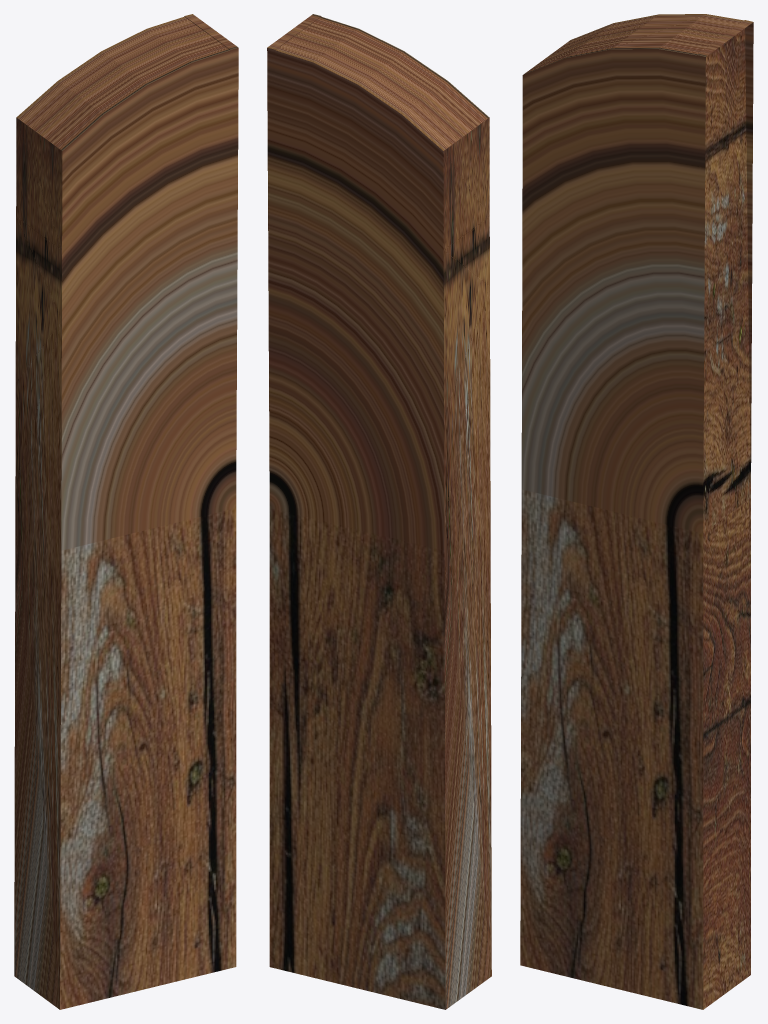
The model's file is PuertaCorrediza.obj.
3 renders of one model, left to right at view 1: azimuth 30°, elevation 25°; view 2: azimuth 150°, elevation 25°; view 3: azimuth 330°, elevation 25°, orthographic. The views are drawn at different scales.
Visible parts, largest first — view 1: Cube_Material; view 2: Cube_Material; view 3: Cube_Material.
Boxes of the visible parts, x1=… form: Cube_Material: x1=14, y1=14, x2=238, y2=1009; Cube_Material: x1=267, y1=14, x2=491, y2=1009; Cube_Material: x1=520, y1=14, x2=753, y2=1009.
Size of the model in its own units: 4.48 by 22.03 by 2.
Materials: 1 (1 with a texture image).
